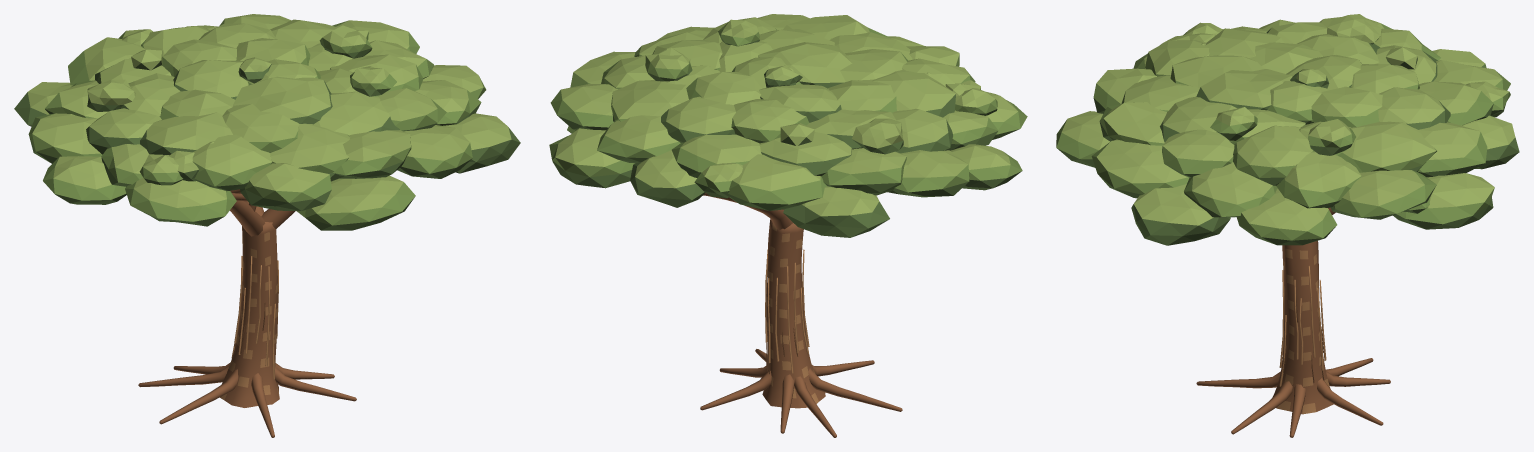
The model's file is a01_acacia_tree_high.glb.
The picture shows the model from 3 angles, left to right: view 1: azimuth 30°, elevation 25°; view 2: azimuth 150°, elevation 25°; view 3: azimuth 270°, elevation 25°; orthographic projection.
Visible parts, largest first — view 1: A01_high_Canopy_Center, A01_high_Canopy_Left, A01_high_Canopy_Right, A01_high_Trunk_and_Branches; view 2: A01_high_Canopy_Left, A01_high_Canopy_Center, A01_high_Canopy_Right, A01_high_Trunk_and_Branches; view 3: A01_high_Canopy_Right, A01_high_Canopy_Center, A01_high_Canopy_Left, A01_high_Trunk_and_Branches.
Part boxes in pixels (x1,y1,x2,y2): A01_high_Canopy_Center: (118,23,415,230); A01_high_Canopy_Left: (14,37,272,226); A01_high_Canopy_Right: (219,14,520,178); A01_high_Trunk_and_Branches: (138,189,356,437); A01_high_Canopy_Left: (728,58,1027,237); A01_high_Canopy_Center: (630,15,959,207); A01_high_Canopy_Right: (549,14,809,188); A01_high_Trunk_and_Branches: (700,193,902,437); A01_high_Canopy_Right: (1091,107,1494,245); A01_high_Canopy_Center: (1056,55,1519,169); A01_high_Canopy_Left: (1133,14,1510,90); A01_high_Trunk_and_Branches: (1196,207,1390,437).
Size of the model in its own units: 7.34 by 5.34 by 6.7.
